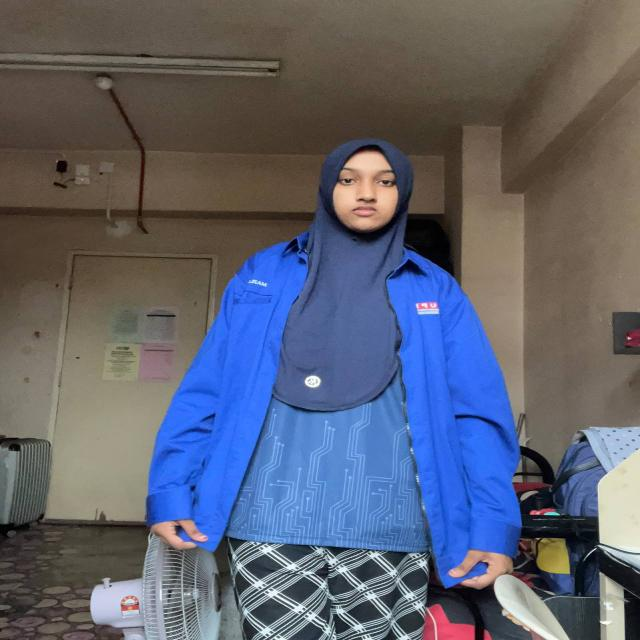person_with_labcoat: (145, 140, 520, 640)
